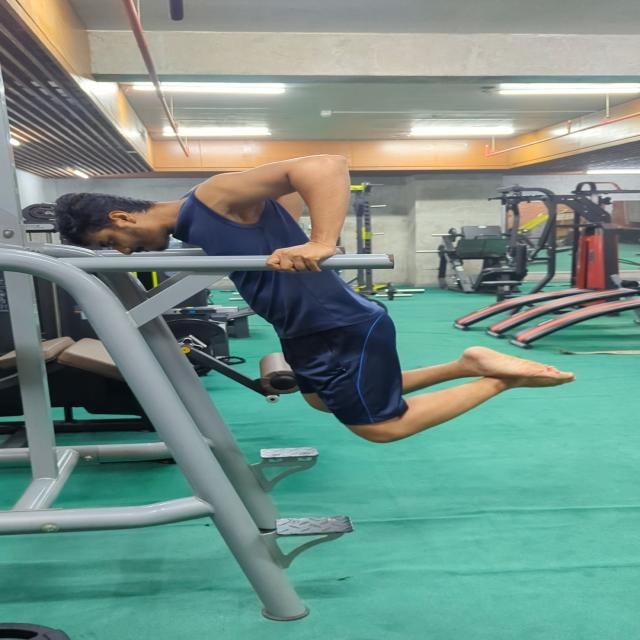Normal_Dips: (50, 143, 592, 447)
